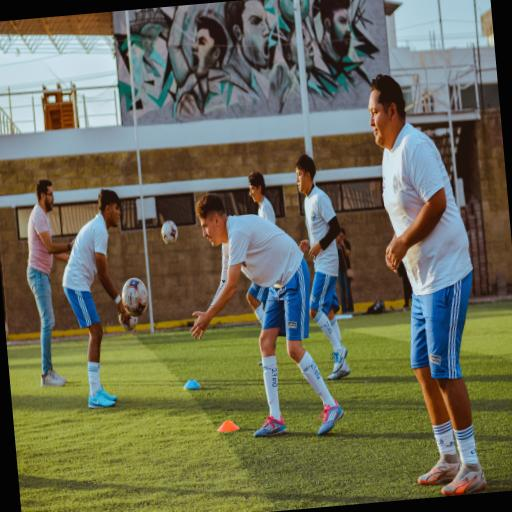shoe: (441, 464, 485, 495), (417, 455, 460, 485), (318, 401, 342, 434), (253, 416, 285, 437), (330, 346, 347, 373), (87, 391, 114, 408), (327, 360, 349, 380), (40, 369, 64, 387), (98, 385, 116, 401), (50, 367, 65, 382), (257, 361, 261, 365)
